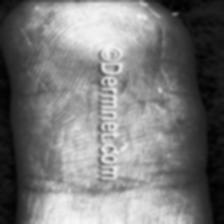Non-Cancerous Skin Condition: (2, 0, 116, 224), (119, 0, 212, 224)
